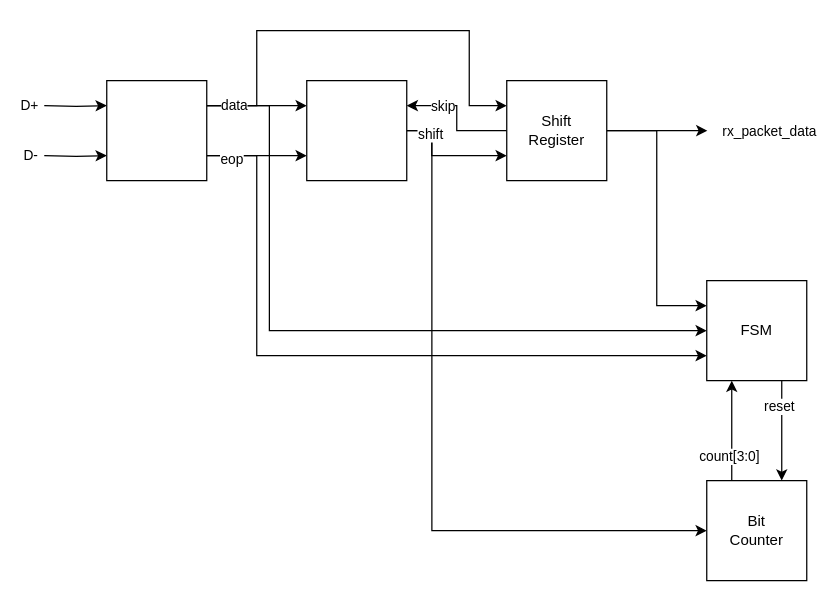
The diagram is 839 pixels wide and 603 high, and some of its shapes have lost their labels. Here are the shapes that lost their labels. From the top down, the centre of each, then its label:
[156,130]: Decoder
[356,130]: Timer
